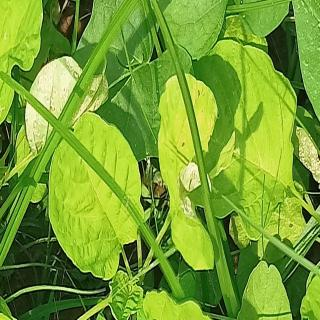karat_putih: (21, 47, 112, 163), (291, 100, 320, 198), (294, 0, 320, 13)
